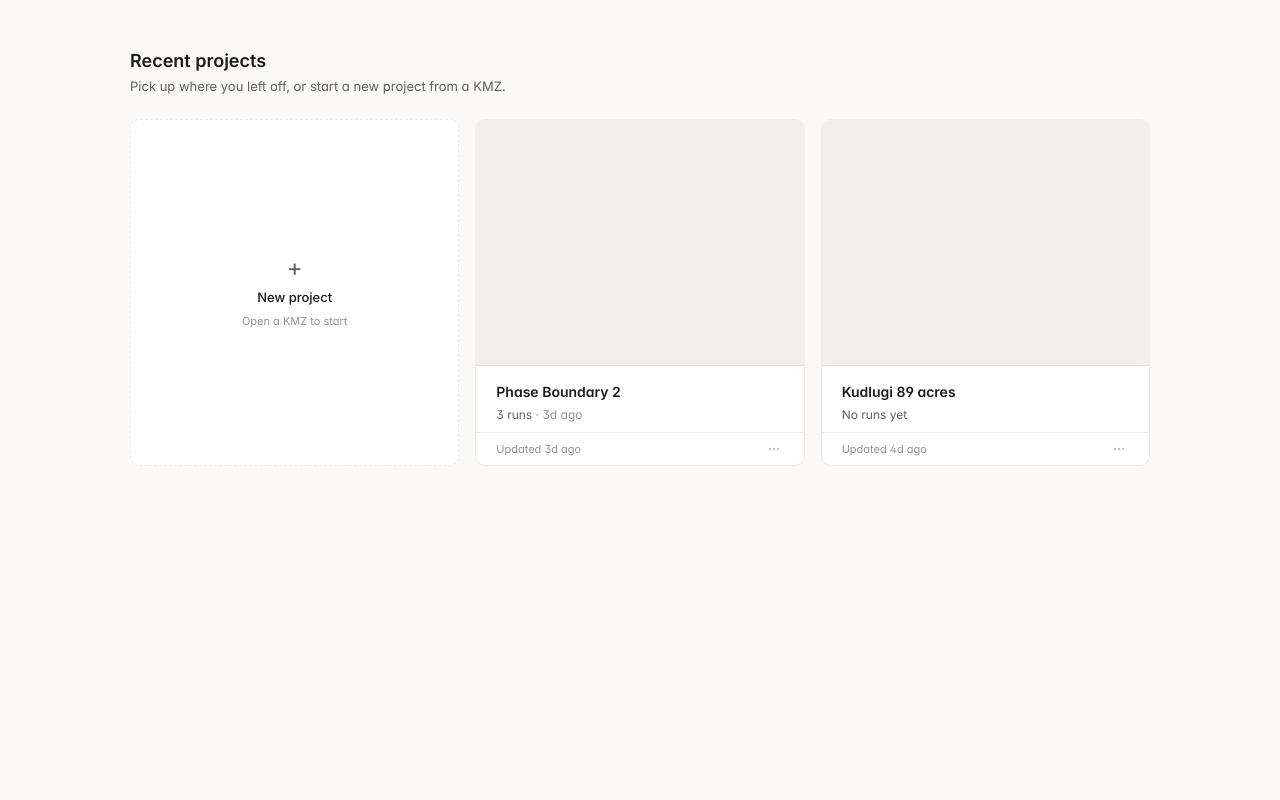
Scenario: RecentsView › SP3 — ⋯ menu + Rename / Delete dialogs › Rename error (rejected promise) keeps dialog open + surfaces inline
The width and height of the screenshot is (1280, 800).
Step 1. Click the button named "More actions for Phase Boundary 2" → {"x": 774, "y": 449}, box left=764, top=439, right=784, bottom=459
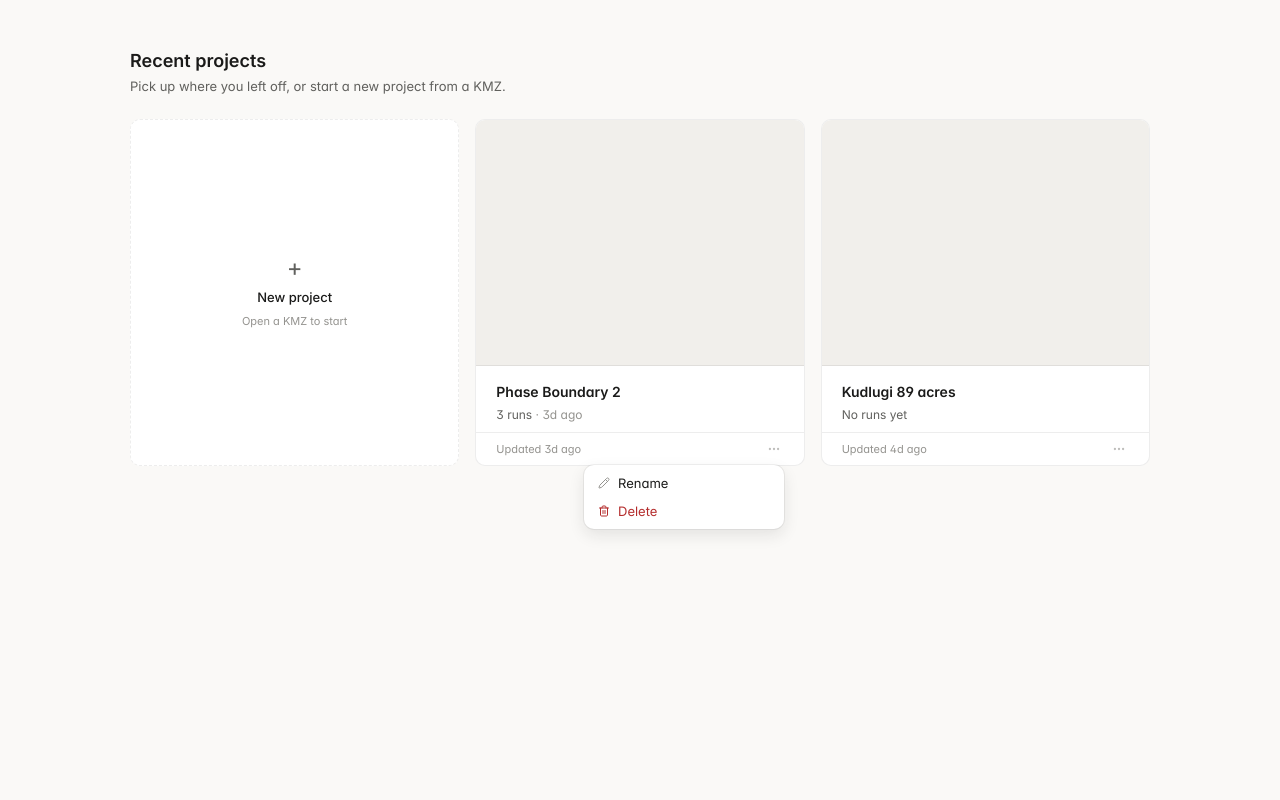
Step 2. Click the menu item "Rename" → {"x": 633, "y": 483}, box left=598, top=475, right=668, bottom=491
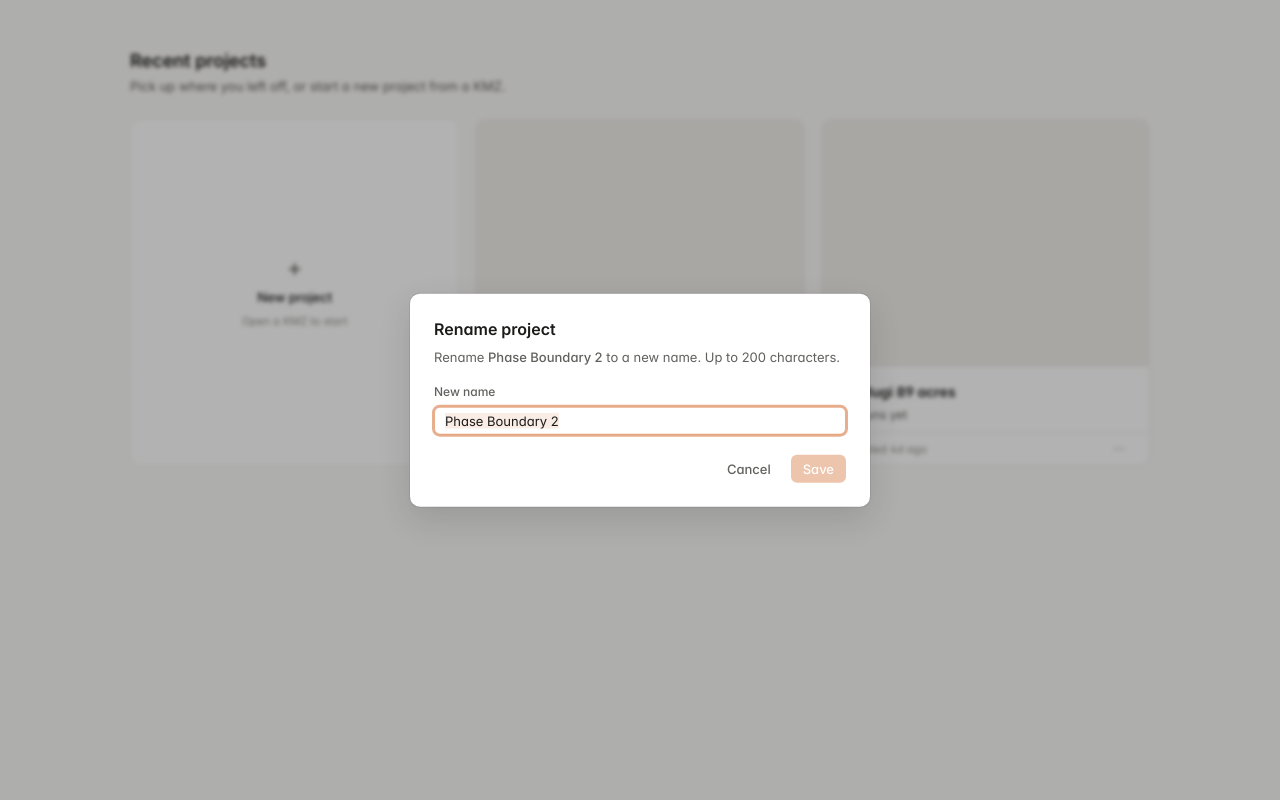
Step 3. Replace the text in the field labelled "New name" with "New Name" → {"x": 640, "y": 420}, box left=434, top=406, right=846, bottom=434
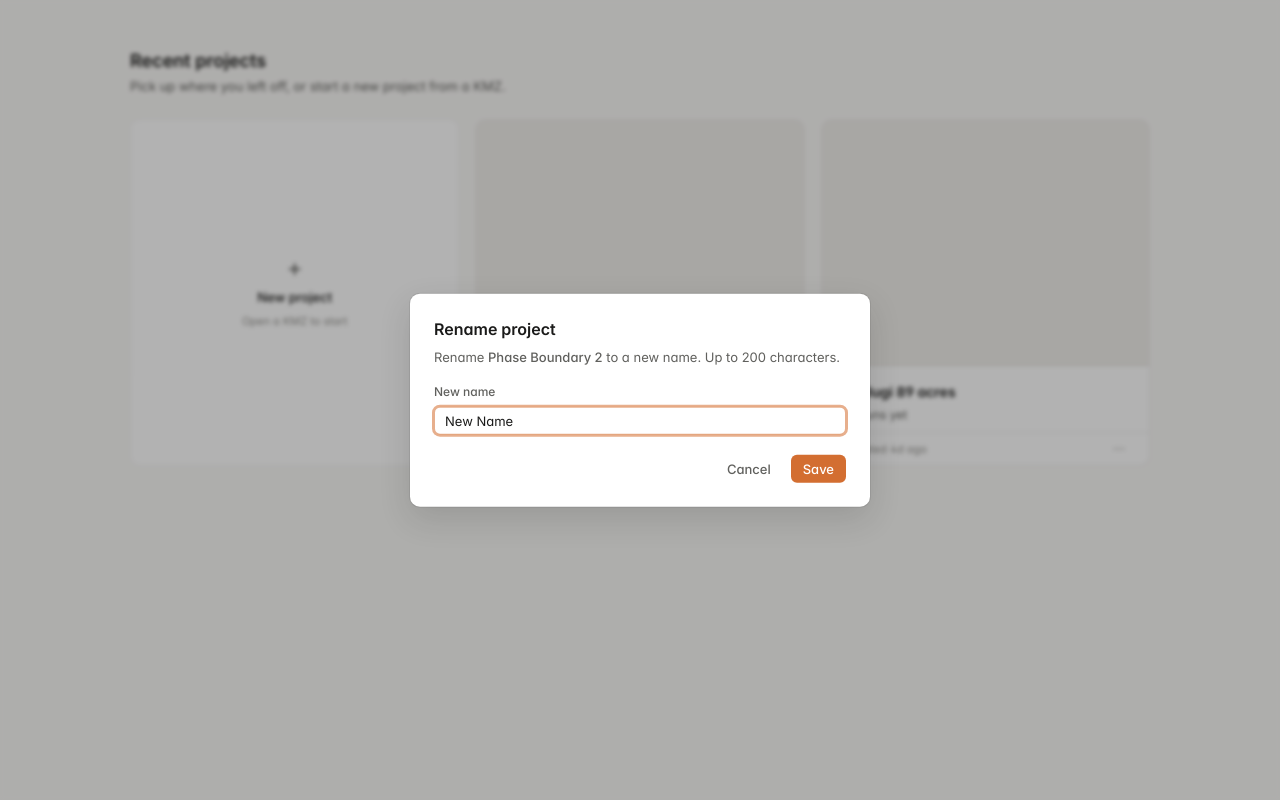
Step 4. Click the button "Save" → {"x": 818, "y": 468}, box left=791, top=454, right=846, bottom=482
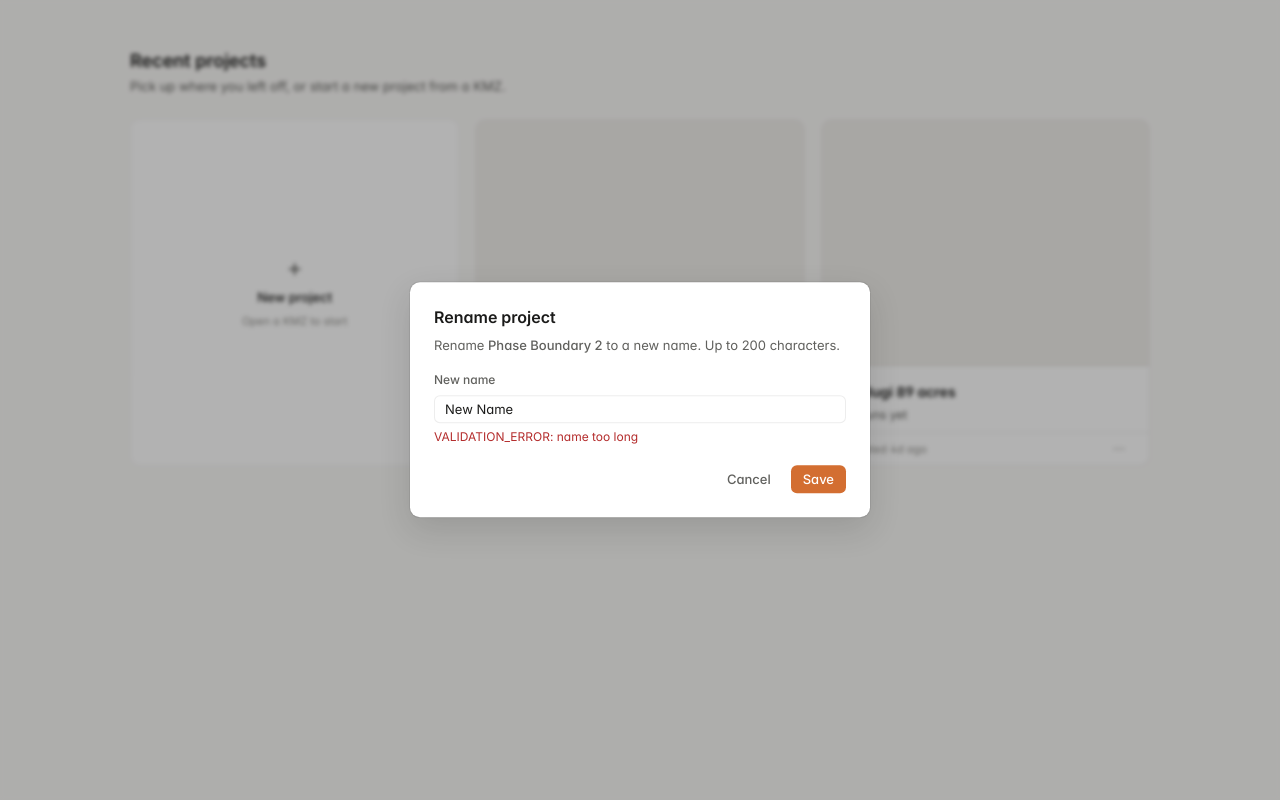
Result: the heading "Rename project" is shown at left=434, top=307, right=556, bottom=327
Result: the text "VALIDATION_ERROR: name too long" is shown at left=434, top=429, right=638, bottom=444
